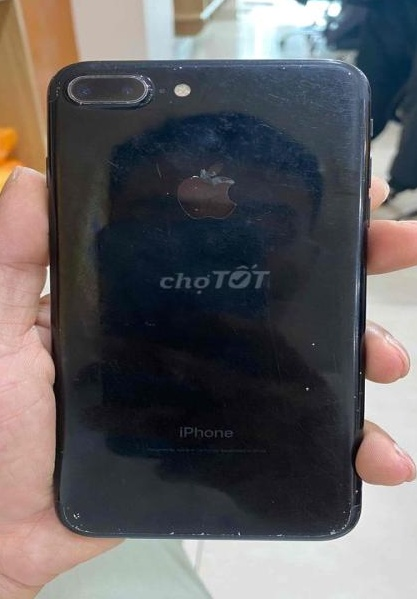scratch: (38, 58, 362, 107), (48, 504, 368, 538), (100, 148, 179, 199), (185, 161, 243, 213), (345, 368, 368, 419), (303, 333, 316, 395), (341, 484, 365, 501)
